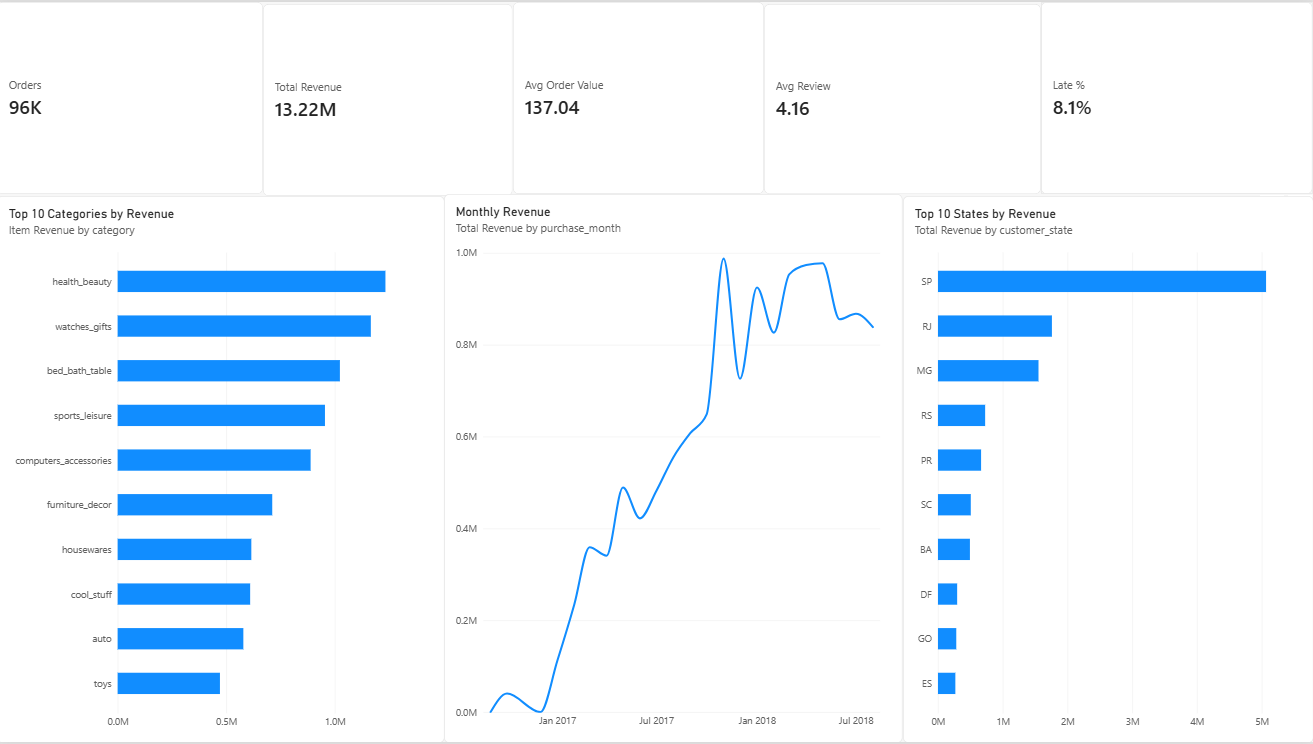

Layout of this report page (visuals, bound fields, positions):
{"tool":"powerbi","page":{"name":"Sales Overview","canvas":[1920,1080],"ordinal":0},"visuals":[{"type":"cardVisual","fields":{"Data":["fact_orders.Orders"]},"box":[0,0,388.1,280.1],"z":0},{"type":"cardVisual","fields":{"Data":["fact_orders.Total Revenue"]},"box":[388.1,2.9,364.7,280.1],"z":1000},{"type":"cardVisual","fields":{"Data":["fact_orders.Avg Order Value"]},"box":[752.4,0,366.7,280.4],"z":2000},{"type":"cardVisual","fields":{"Data":["fact_orders.Avg Review"]},"box":[1119.1,2.7,404.5,277.8],"z":3000},{"type":"cardVisual","title":"Late Delivery","fields":{"Data":["fact_orders.Late %"]},"box":[1523.2,0,396.8,280.1],"z":4000},{"type":"lineChart","title":"Monthly  Revenue","fields":{"Category":["fact_orders.purchase_month"],"Y":["fact_orders.Total Revenue"]},"box":[652.6,280.4,668.8,800.9],"z":5000},{"type":"clusteredBarChart","title":"Top 10 Categories by Revenue","fields":{"Category":["fact_items.category"],"Y":["fact_items.Item Revenue"]},"box":[0,283.1,652.6,798.2],"z":6000},{"type":"clusteredBarChart","title":"Top 10 States by Revenue","fields":{"Category":["fact_orders.customer_state"],"Y":["fact_orders.Total Revenue"]},"box":[1321.3,283.1,598.7,798.2],"z":7000}]}

Visuals, with their boxes in screenshot pixels (x1, y1, x2, y2), scaled from the page's 1920x1080 canvas onto the 1313x744 screenshot:
cardVisual - fact_orders.Orders: <region>0, 0, 265, 193</region>
cardVisual - fact_orders.Total Revenue: <region>265, 2, 515, 195</region>
cardVisual - fact_orders.Avg Order Value: <region>515, 0, 765, 193</region>
cardVisual - fact_orders.Avg Review: <region>765, 2, 1042, 193</region>
"Late Delivery" cardVisual: <region>1042, 0, 1312, 193</region>
"Monthly  Revenue" lineChart: <region>446, 193, 904, 743</region>
"Top 10 Categories by Revenue" clusteredBarChart: <region>0, 195, 446, 743</region>
"Top 10 States by Revenue" clusteredBarChart: <region>904, 195, 1312, 743</region>
